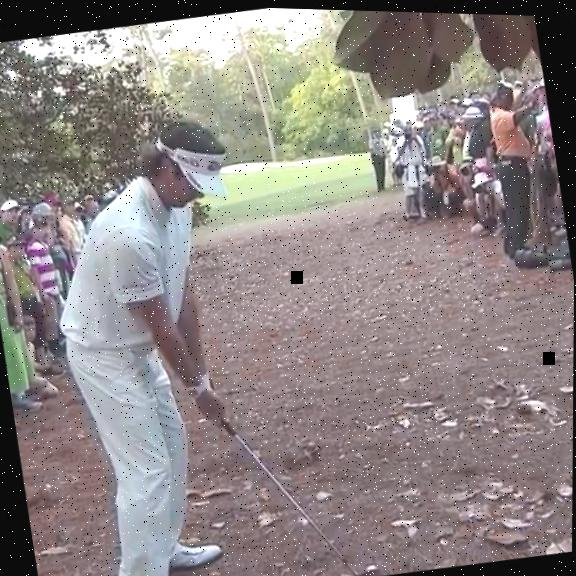ClubHead: (358, 564, 382, 575)
GolfBall: (365, 561, 378, 569)
